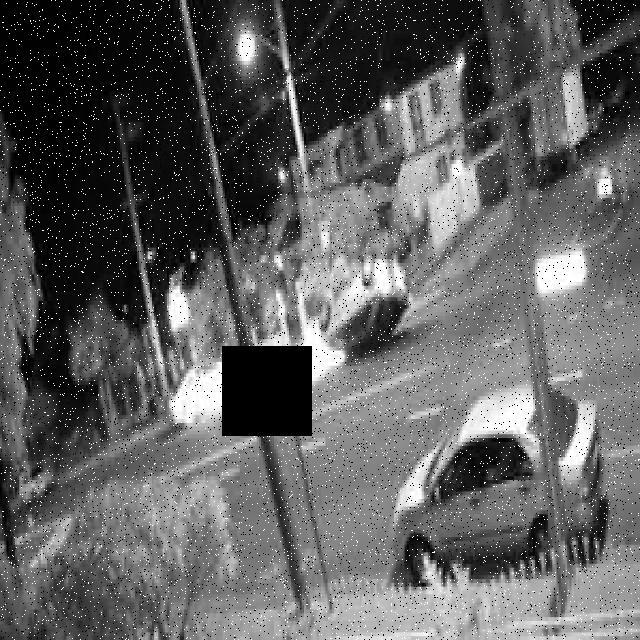severe: (314, 248, 412, 362)
